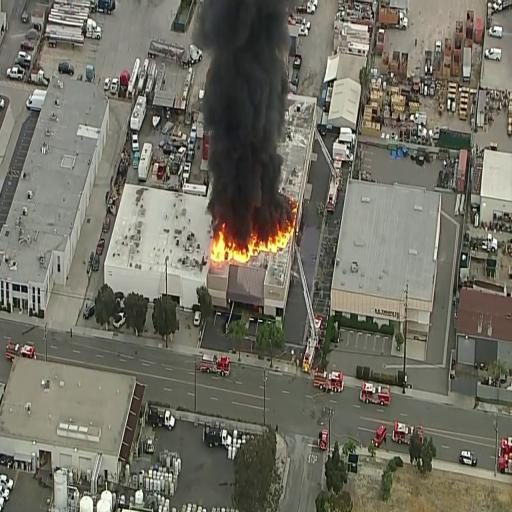fire: (206, 223, 249, 270), (241, 223, 298, 258)
smoke: (222, 0, 275, 223)
